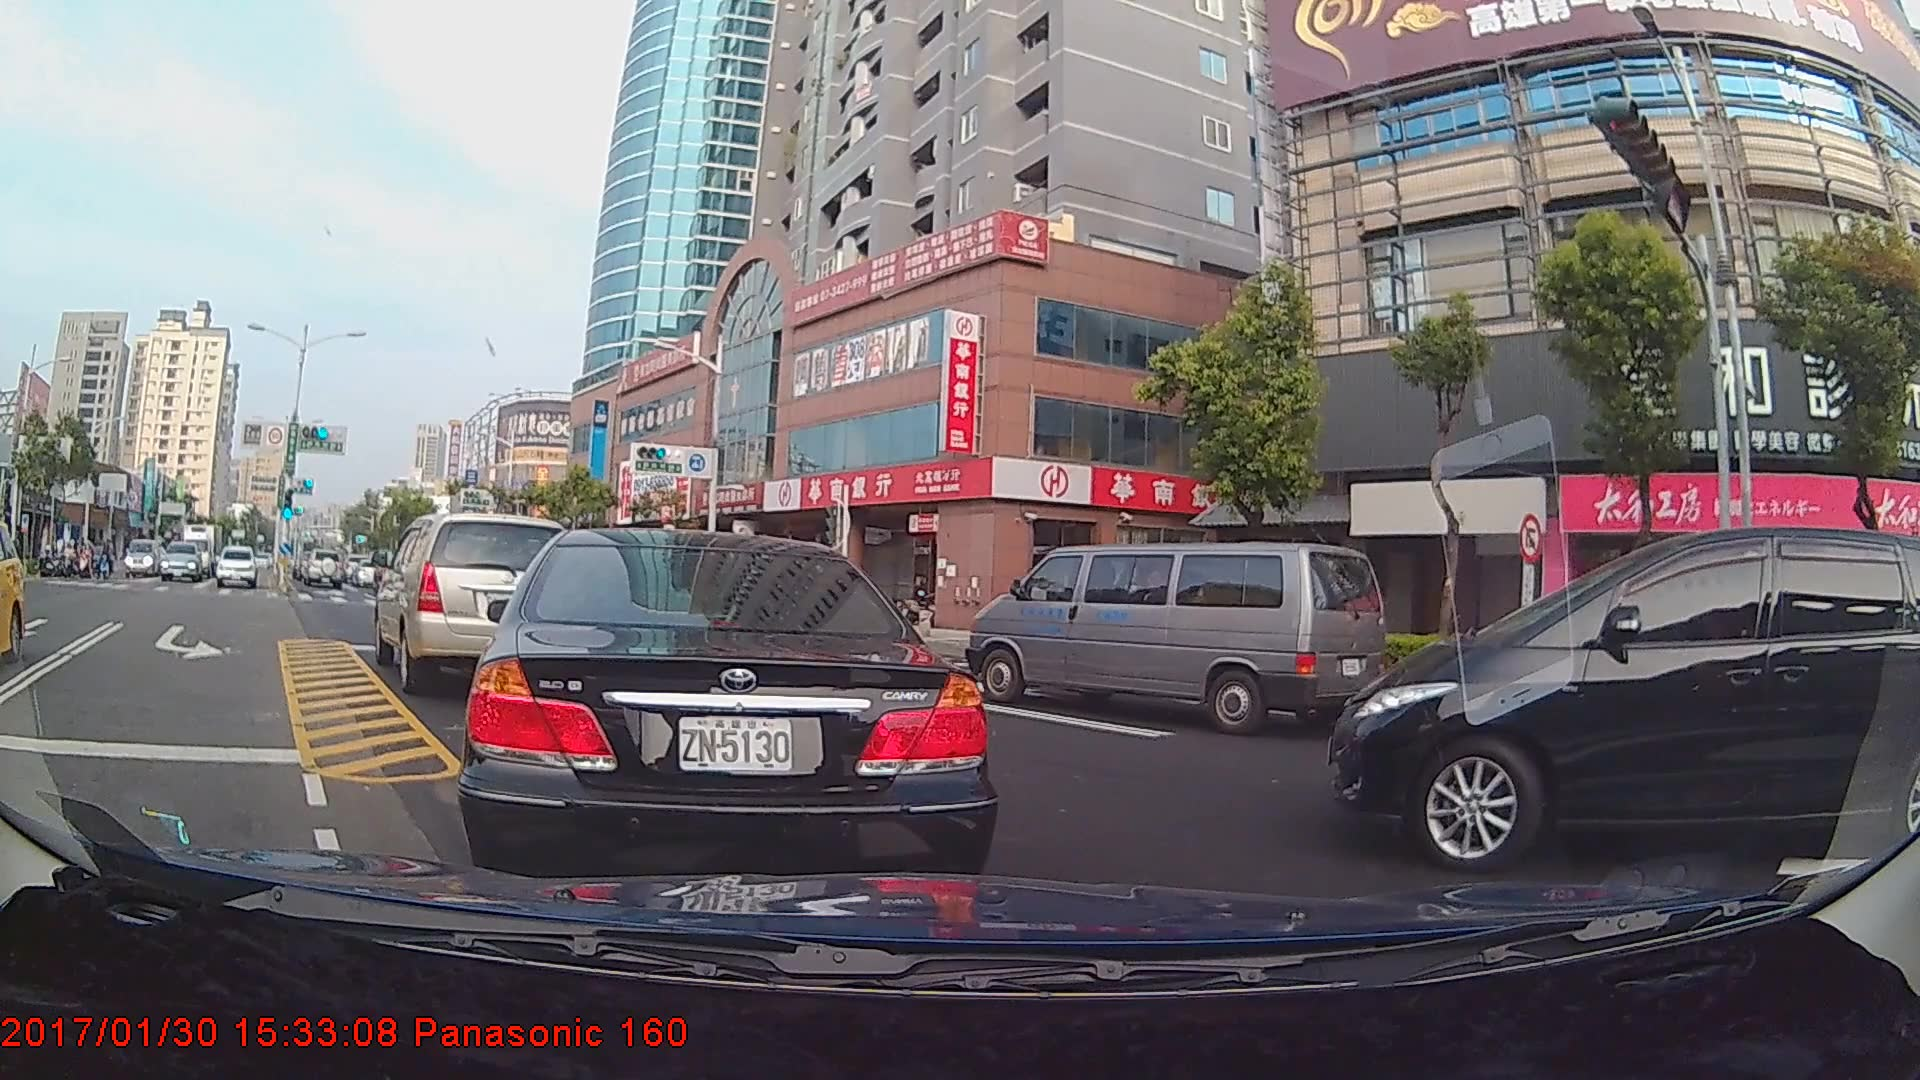vehicle: (1324, 527, 1907, 894), (462, 524, 978, 889), (975, 541, 1379, 735), (377, 509, 568, 684), (0, 531, 25, 659), (175, 522, 228, 572), (160, 539, 208, 583), (295, 546, 345, 588), (214, 545, 258, 588), (124, 537, 170, 578)
